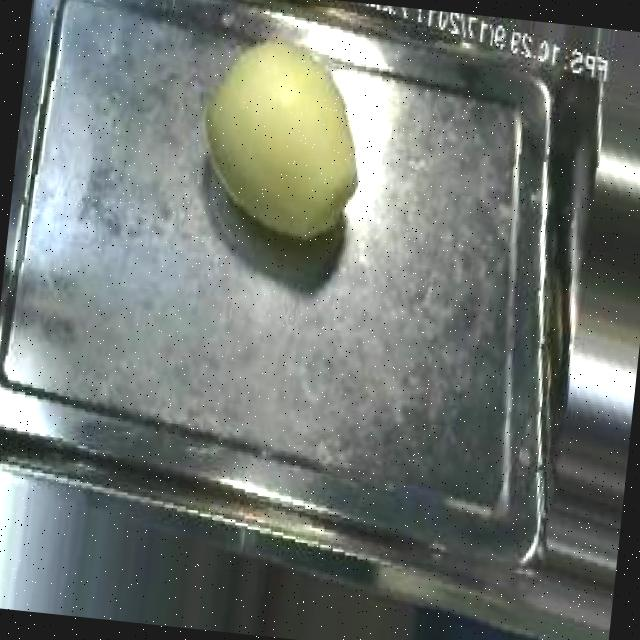apple: (155, 10, 404, 281)
